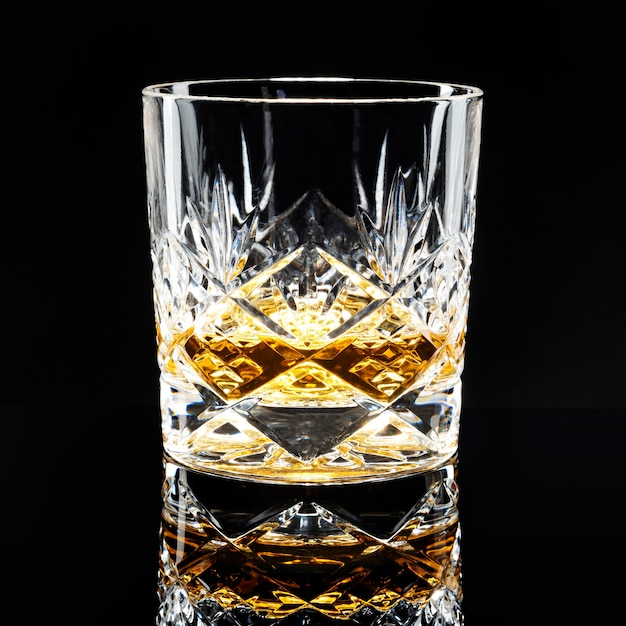alcohol: (144, 79, 490, 495)
